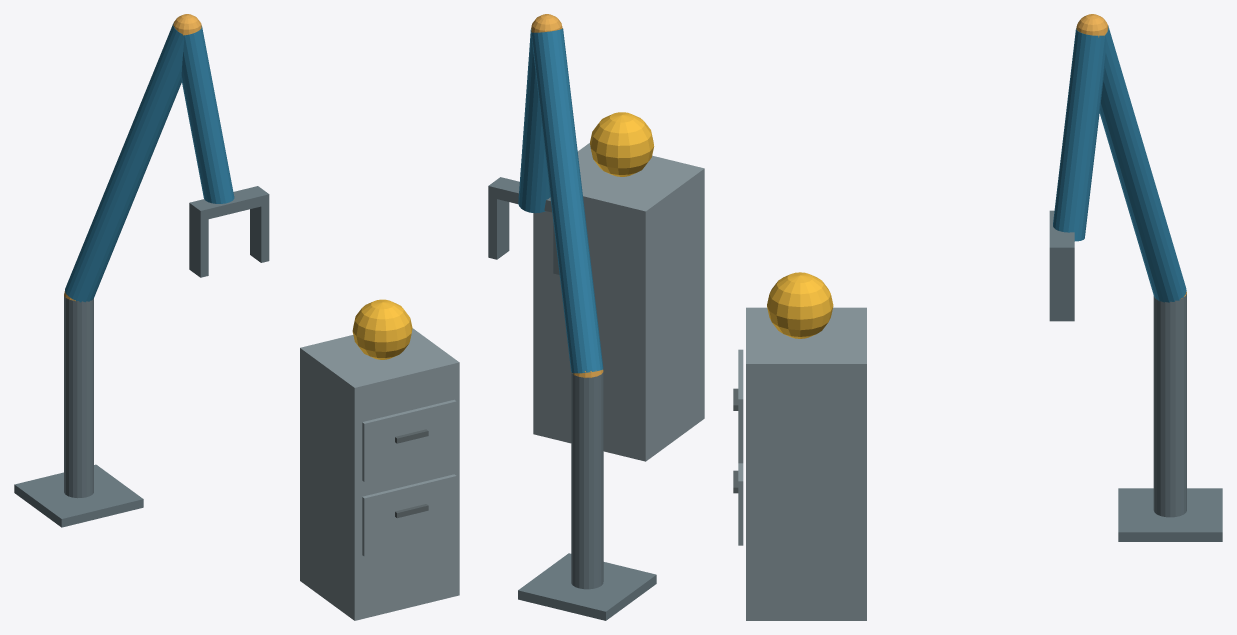
The picture shows the model from 3 angles, left to right: view 1: azimuth 30°, elevation 25°; view 2: azimuth 150°, elevation 25°; view 3: azimuth 270°, elevation 25°; orthographic projection. The views are drawn at different scales.
Visible parts, largest first — view 1: cabinet_1 body, moving link 1, fixed post, cabinet_1 drawer front, cabinet_1 drawer front.001, moving link 2, pedestal, ball ball_1, gripper bridge, gripper finger -1, gripper finger 1; view 2: cabinet_1 body, moving link 1, fixed post, pedestal, ball ball_1, moving link 2, gripper finger 1, gripper bridge, joint 2; view 3: cabinet_1 body, moving link 1, fixed post, moving link 2, pedestal, ball ball_1, gripper finger 1, gripper bridge, cabinet_1 drawer front.001.
Boxes of the visible parts, box(x1,y1,x2,y2) form: cabinet_1 body: box(300, 328, 459, 620); moving link 1: box(65, 23, 184, 302); fixed post: box(64, 294, 93, 498); cabinet_1 drawer front: box(362, 474, 456, 556); cabinet_1 drawer front.001: box(362, 399, 456, 481); moving link 2: box(181, 26, 234, 203); pedestal: box(14, 464, 143, 527); ball ball_1: box(352, 299, 412, 359); gripper bridge: box(189, 186, 269, 221); gripper finger -1: box(189, 213, 208, 277); gripper finger 1: box(250, 204, 269, 262); cabinet_1 body: box(533, 143, 704, 461); moving link 1: box(531, 28, 603, 373); fixed post: box(571, 370, 603, 589); pedestal: box(518, 553, 656, 620); ball ball_1: box(590, 112, 654, 176); moving link 2: box(518, 28, 550, 213); gripper finger 1: box(488, 197, 509, 259); gripper bridge: box(488, 177, 552, 212); joint 2: box(531, 14, 562, 32); cabinet_1 body: box(746, 307, 866, 620); moving link 1: box(1099, 25, 1186, 302); fixed post: box(1153, 294, 1186, 517); moving link 2: box(1053, 28, 1105, 241); pedestal: box(1118, 488, 1222, 541); ball ball_1: box(767, 272, 833, 338); gripper finger 1: box(1049, 259, 1074, 321); gripper bridge: box(1049, 210, 1074, 258); cabinet_1 drawer front.001: box(738, 349, 743, 463).
Size of the model in its own units: 0.6992 by 1.44 by 1.17.
